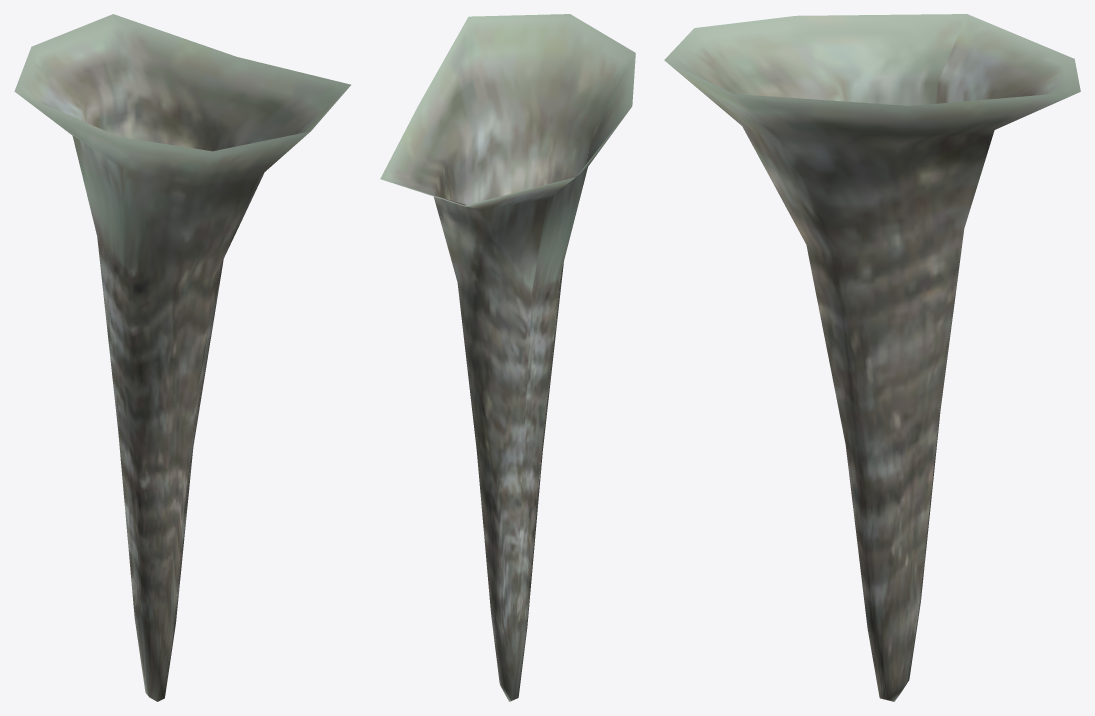
Rendered from TROLLHOLE02_PS-MAINSTALAG28.fbx.
The picture shows the model from 3 angles, left to right: view 1: azimuth 30°, elevation 25°; view 2: azimuth 150°, elevation 25°; view 3: azimuth 270°, elevation 25°; orthographic projection. The views are drawn at different scales.
Visible parts, largest first — view 1: TROLLHOLE02_PS-MAINSTALAG28; view 2: TROLLHOLE02_PS-MAINSTALAG28; view 3: TROLLHOLE02_PS-MAINSTALAG28.
Part boxes in pixels (bbox=[...]): TROLLHOLE02_PS-MAINSTALAG28: bbox=[14, 14, 350, 701]; TROLLHOLE02_PS-MAINSTALAG28: bbox=[380, 14, 635, 701]; TROLLHOLE02_PS-MAINSTALAG28: bbox=[664, 14, 1080, 701].
Size of the model in its own units: 11985 by 32536 by 18372.
Materials: 1 (1 with a texture image).
